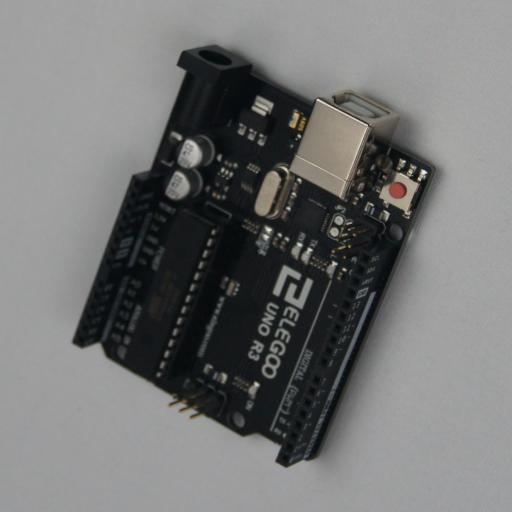Arduino Uno -Black-: (72, 45, 438, 467)
